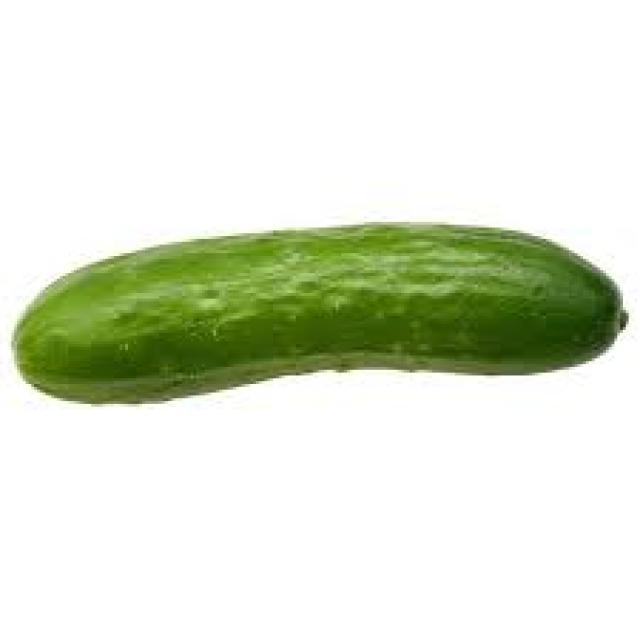cucumber: (9, 216, 628, 404)
